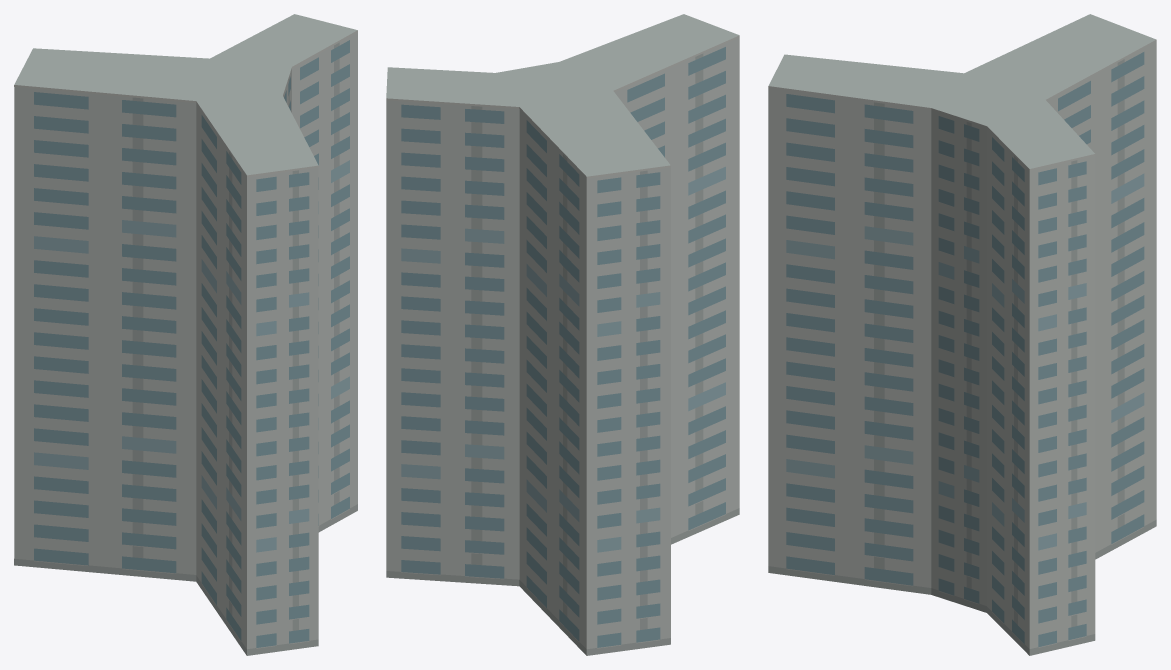
File: residential-494417c8-378a-4cd2-8b01-515808a2be2b.glb
3 views of the same model, side by side, from view 1: azimuth 30°, elevation 25°; view 2: azimuth 150°, elevation 25°; view 3: azimuth 270°, elevation 25° (orthographic).
Parts seen in each view (by area): view 1: residential-494417c8-378a-4cd2-8b01-515808a2be2b.tmp; view 2: residential-494417c8-378a-4cd2-8b01-515808a2be2b.tmp; view 3: residential-494417c8-378a-4cd2-8b01-515808a2be2b.tmp.
Part boxes in pixels (box(x1,y1,x2,y2)): residential-494417c8-378a-4cd2-8b01-515808a2be2b.tmp: box(14, 14, 357, 655); residential-494417c8-378a-4cd2-8b01-515808a2be2b.tmp: box(386, 14, 739, 655); residential-494417c8-378a-4cd2-8b01-515808a2be2b.tmp: box(768, 14, 1156, 655).
Bounding box in the file's own units: 38.96 × 57 × 41.19.
